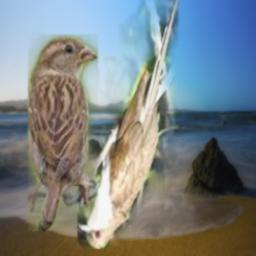Cuckoo: (77, 0, 179, 250)
Sparrow: (28, 34, 98, 231)
